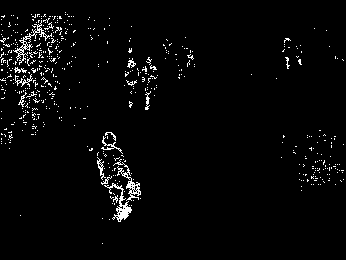person: (92, 129, 144, 228)
